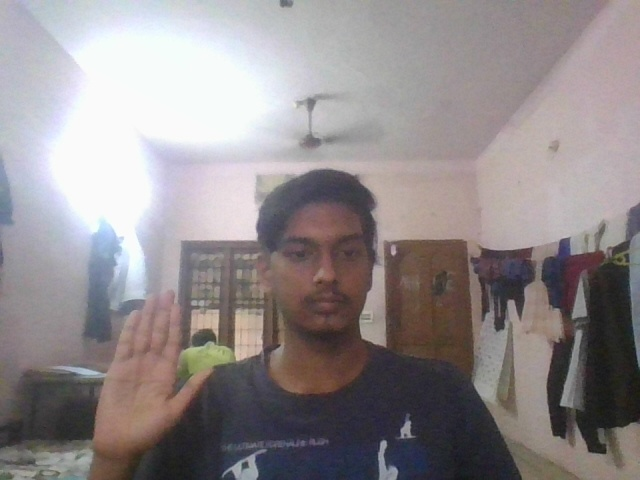hello: (87, 288, 217, 462)
